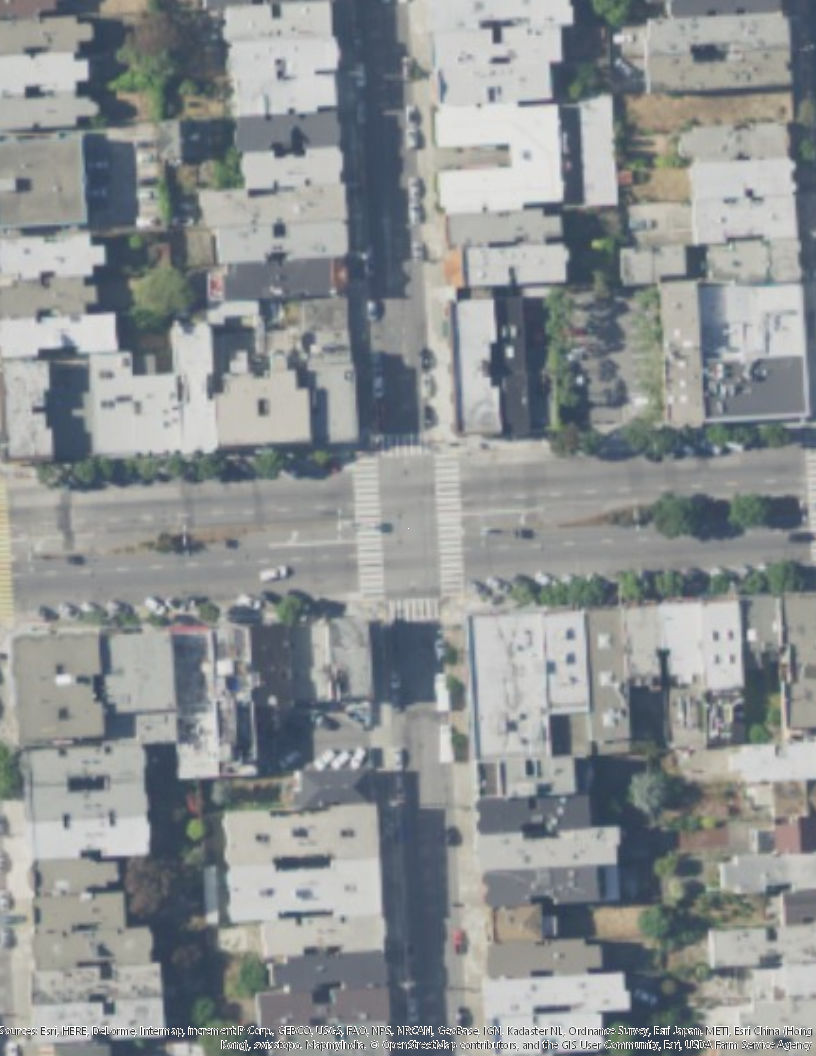zebracross: (431, 458, 466, 601), (353, 457, 386, 601), (1, 492, 14, 622), (389, 593, 442, 624), (374, 431, 433, 458)
